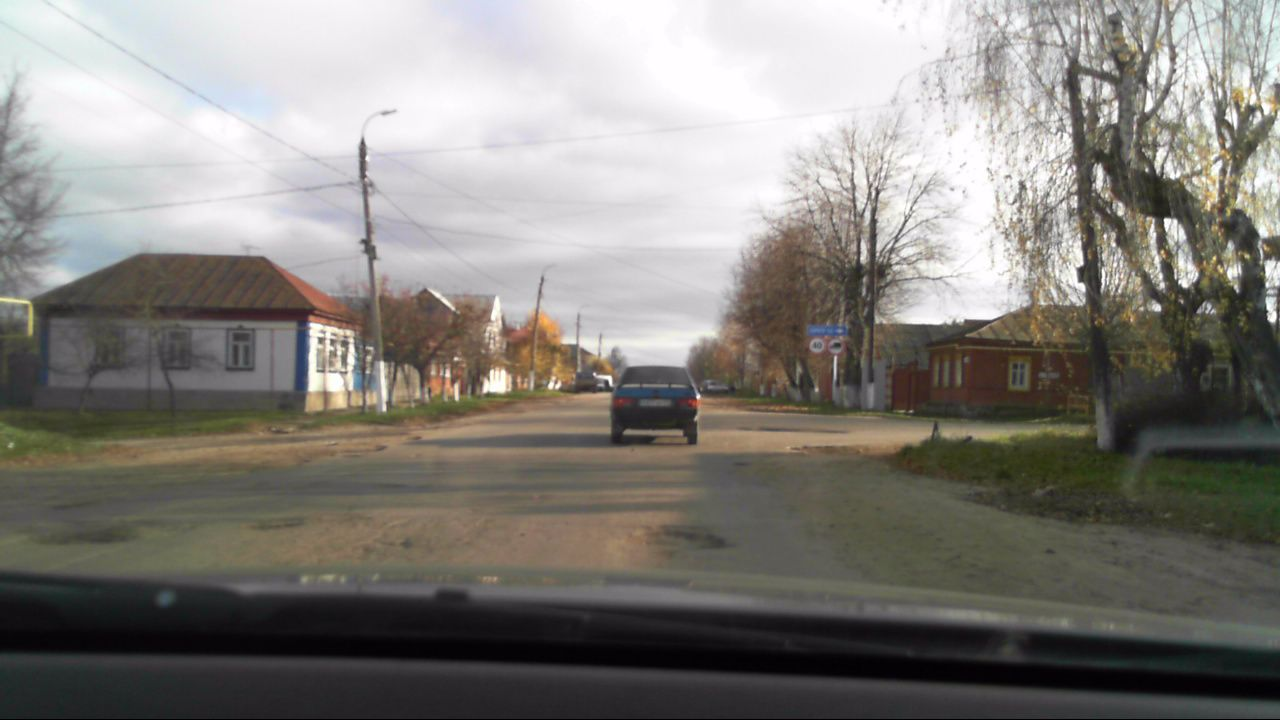speed_warning_40: (808, 337, 825, 356)
